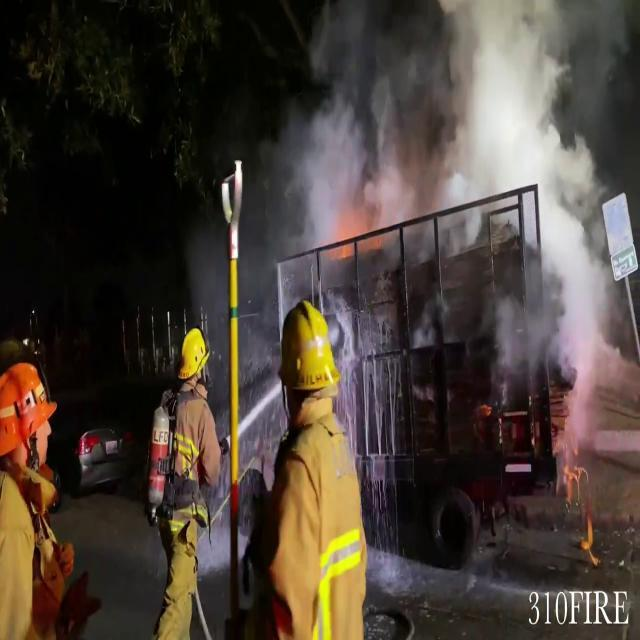Smoke: (274, 0, 614, 257), (486, 130, 621, 418)
